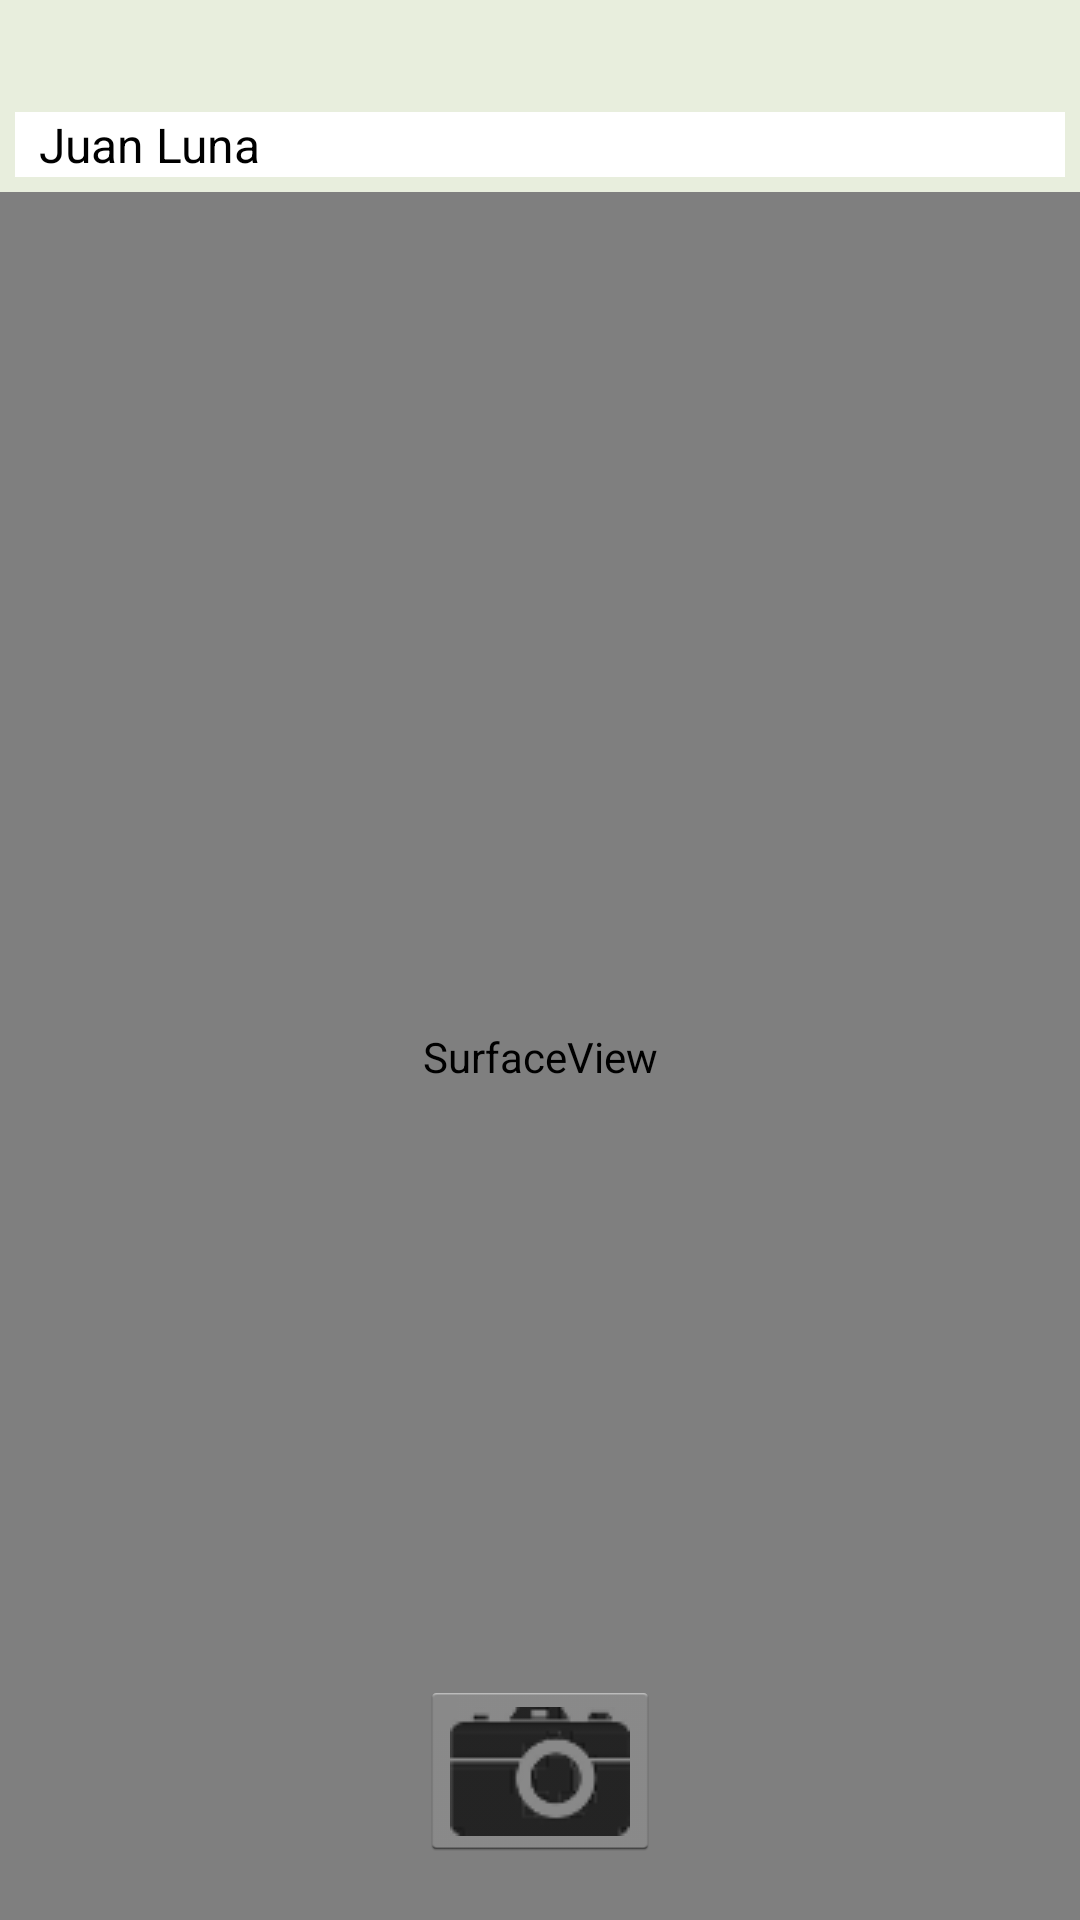

Screen size 1080×1920. Icon name, then its box in pixels as box=[x1, y1, x2, y2]:
camera: box=[432, 1693, 648, 1849]
